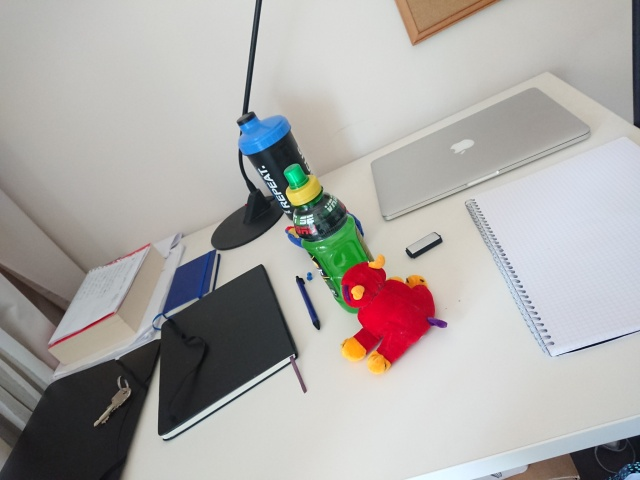Vindi Iso Sport Lemon-Grapefruit 500mL: (281, 161, 385, 316)
